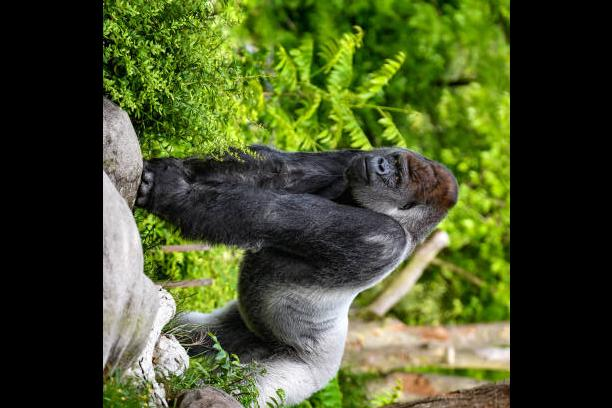gorille_Autres: (139, 128, 486, 408)
